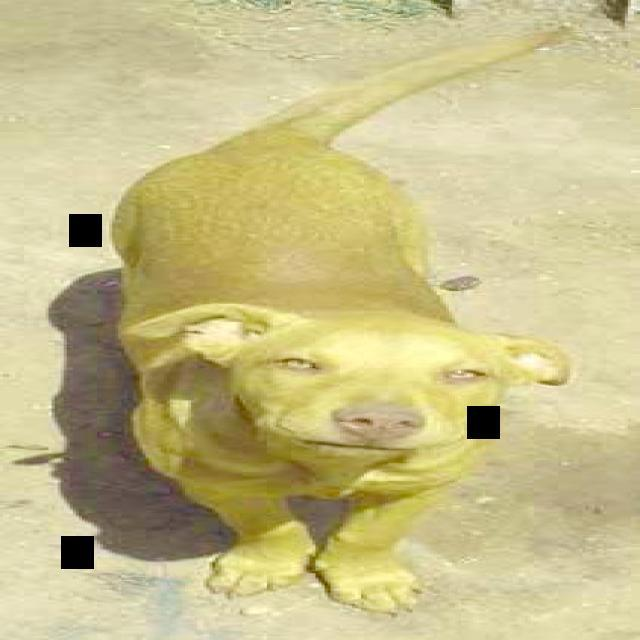adult_dog: (109, 29, 576, 613)
